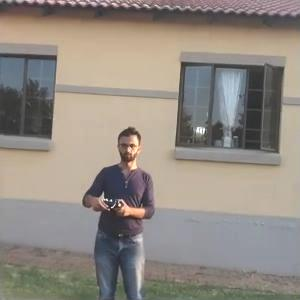follow: (73, 118, 160, 297)
